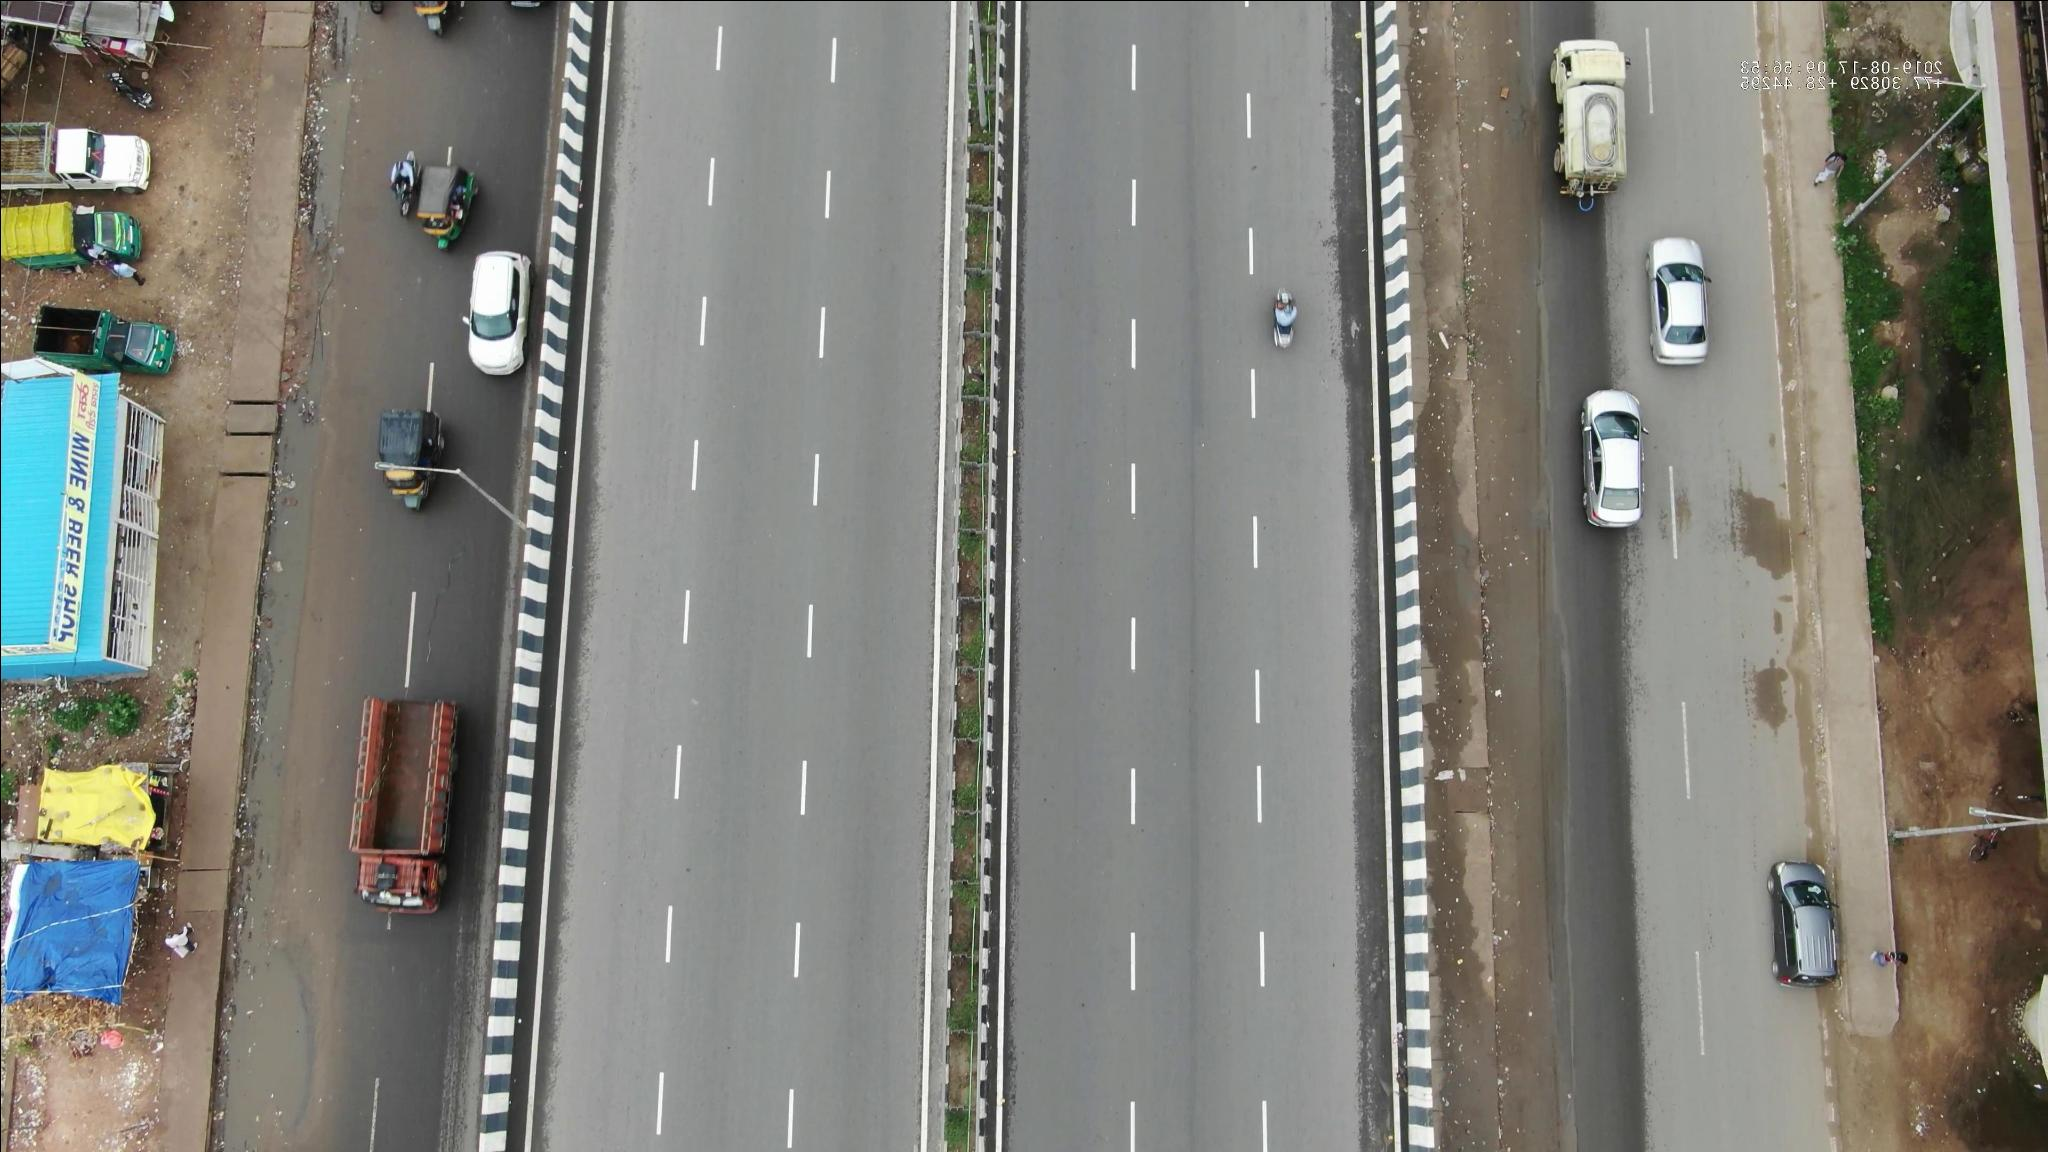Muddy_road: (1743, 646, 1805, 726), (1730, 494, 1789, 572)
Waterlogging: (236, 416, 328, 851), (217, 947, 325, 1151), (287, 1, 371, 229)
